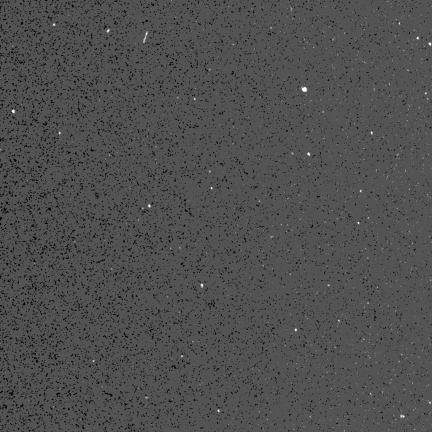blob: (302, 87, 307, 92), (417, 37, 420, 41), (371, 131, 374, 135), (107, 29, 110, 33), (429, 42, 432, 46), (148, 205, 152, 208), (53, 23, 56, 27), (209, 171, 212, 174), (12, 110, 15, 113), (59, 132, 62, 135), (295, 329, 298, 332), (308, 152, 310, 156), (358, 222, 360, 225), (201, 284, 203, 287), (211, 187, 213, 190), (360, 190, 362, 193)
